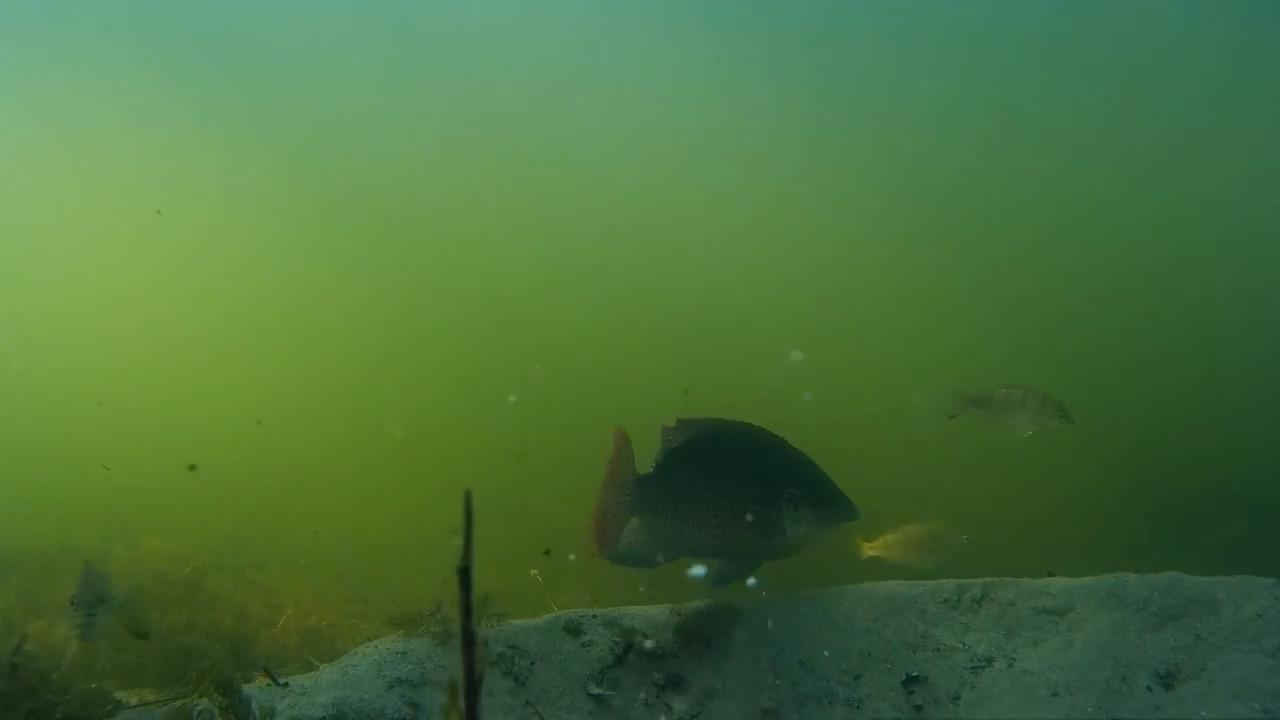Tilapia: (588, 416, 863, 588), (45, 548, 185, 648), (862, 496, 989, 598), (946, 372, 1079, 460)
